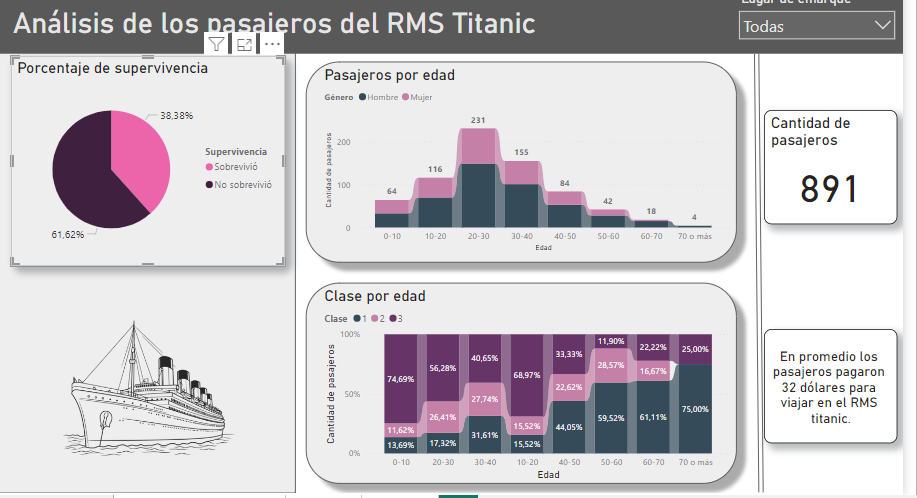

The page's visual inventory and layout, read from the dashboard file:
{"tool":"powerbi","page":{"name":"Análisis de los pasajeros","canvas":[1280,720],"ordinal":0},"visuals":[{"type":"columnChart","title":"Pasajeros por edad","fields":{"Category":["titanic_dataset_1.Bin_Edad"],"Y":["CountNonNull(titanic_dataset_1.Bin_Edad)"],"Series":["titanic_dataset_1.Genero"]},"box":[456.4,112,583.9,267.9],"z":0},{"type":"hundredPercentStackedColumnChart","title":"Clase por edad","fields":{"Category":["titanic_dataset_1.Bin_Edad"],"Y":["CountNonNull(titanic_dataset_1.Clase)"],"Series":["titanic_dataset_1.Clase"]},"box":[456.4,425.2,583.9,279.2],"z":1000},{"type":"card","fields":{"Values":["titanic_dataset_1.Título"]},"box":[0,0,779.5,93.5],"z":2000},{"type":"pieChart","title":"Porcentaje  de supervivencia","fields":{"Category":["titanic_dataset_3.Supervivencia"],"Y":["CountNonNull(titanic_dataset_3.Supervivencia)"]},"box":[17,97.8,388.3,297.6],"z":3000},{"type":"card","title":"Cantidad de pasajeros","fields":{"Values":["titanic_dataset_1.Cantidad de Pasajeros"]},"box":[1084,174,188.5,161.6],"z":4000},{"type":"card","title":"Cantidad de pasajeros","fields":{"Values":["titanic_dataset_1.Familia"]},"box":[1084.3,484.7,188.5,161.6],"z":5000},{"type":"slicer","fields":{"Values":["titanic_dataset_1.Embarque"]},"box":[1038.9,0,240.9,93.5],"z":6000}]}

Visuals, with their boxes on the page's 1280x720 design canvas (x1, y1, x2, y2). These are canvas units, not pixel positions in the 917x498 screenshot, which may show the page scaled, cropped or inside an application window:
"Pasajeros por edad" columnChart: box=[456, 112, 1040, 380]
"Clase por edad" hundredPercentStackedColumnChart: box=[456, 425, 1040, 704]
card - titanic_dataset_1.Título: box=[0, 0, 780, 94]
"Porcentaje  de supervivencia" pieChart: box=[17, 98, 405, 395]
"Cantidad de pasajeros" card: box=[1084, 174, 1272, 336]
"Cantidad de pasajeros" card: box=[1084, 485, 1273, 646]
slicer - titanic_dataset_1.Embarque: box=[1039, 0, 1280, 94]
